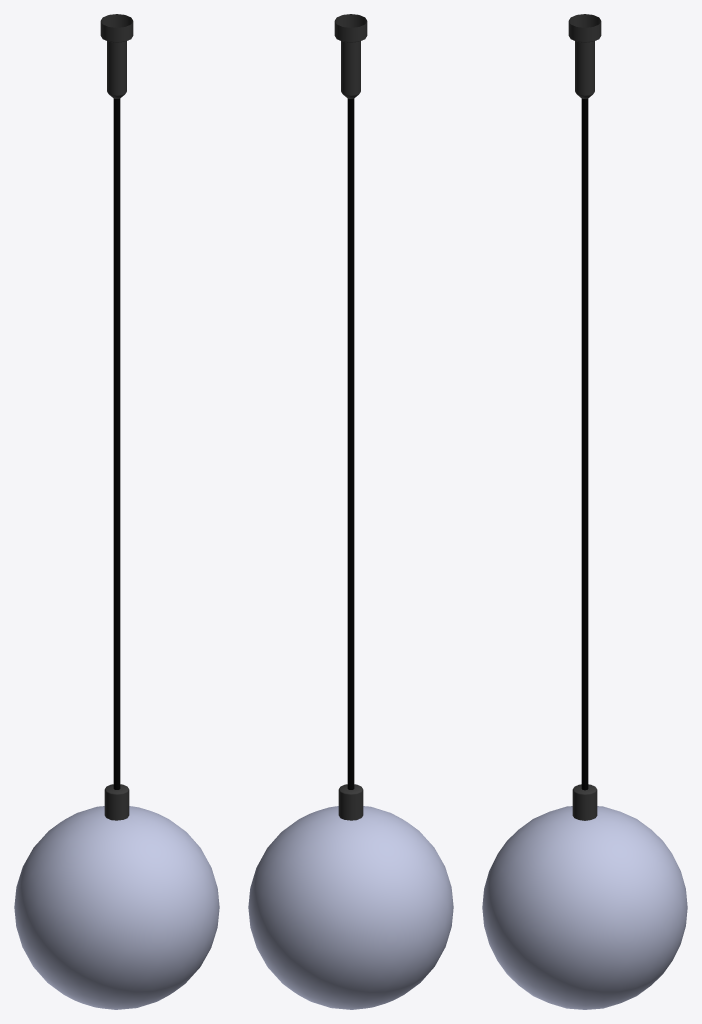
Rendered from SM_PendantLight_009c.FBX.
3 renders of one model, left to right at view 1: azimuth 30°, elevation 25°; view 2: azimuth 150°, elevation 25°; view 3: azimuth 270°, elevation 25°, orthographic.
Parts seen in each view (by area): view 1: SM_PendantLight_009c; view 2: SM_PendantLight_009c; view 3: SM_PendantLight_009c.
Part boxes in pixels (left/top/right/bottom): SM_PendantLight_009c: left=14, top=14, right=219, bottom=1009; SM_PendantLight_009c: left=248, top=14, right=453, bottom=1009; SM_PendantLight_009c: left=482, top=14, right=687, bottom=1009.
Bounding box in the file's own units: 20.06 × 20.17 × 106.
